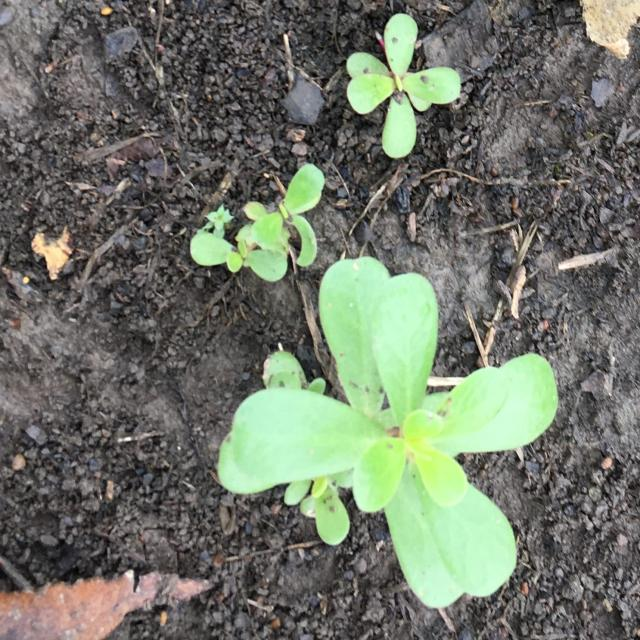Purslane: (218, 257, 559, 608), (346, 14, 462, 160), (190, 163, 325, 282)
